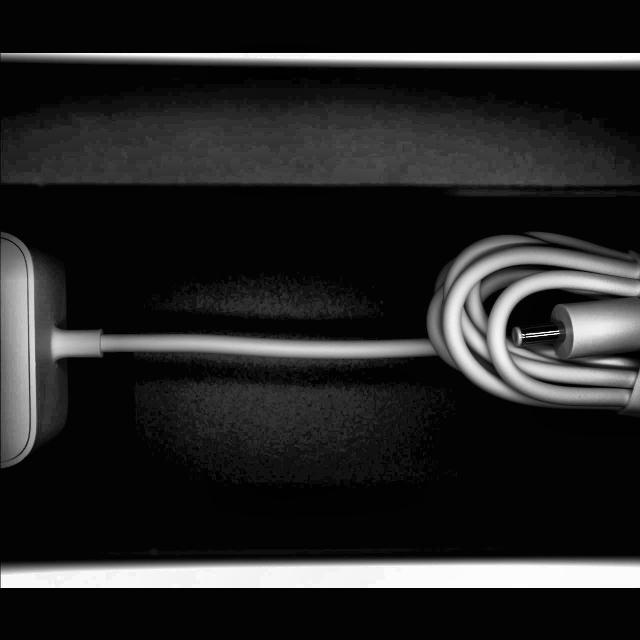Cable: (0, 220, 638, 470)
